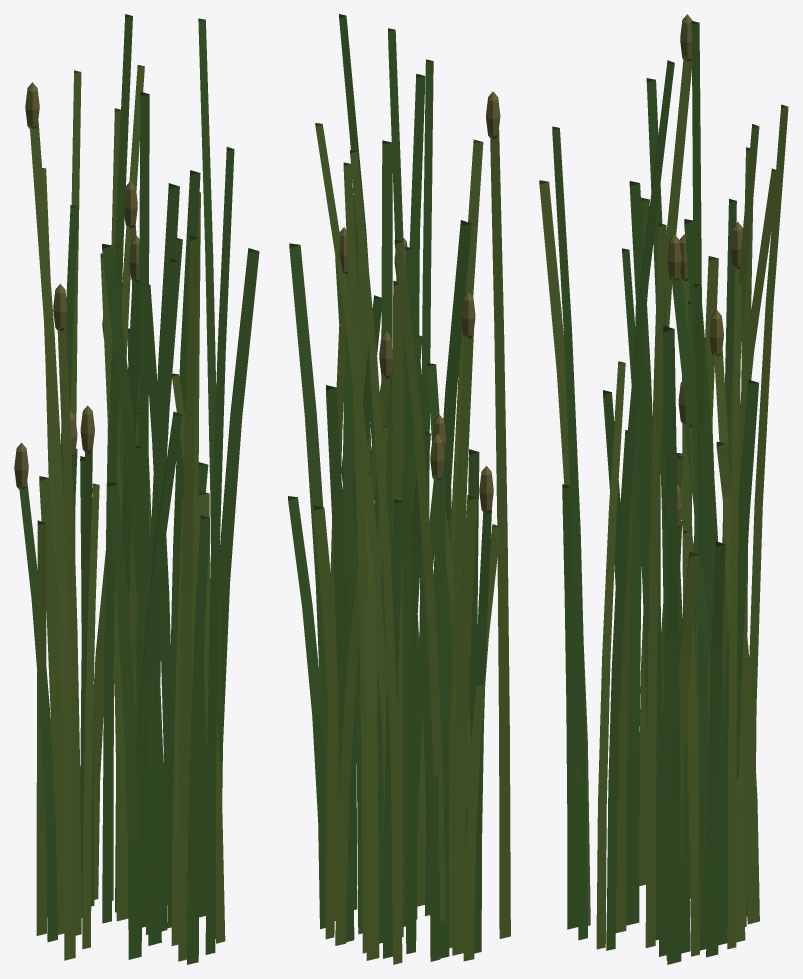
Rendered from wet_sedge_v3.glb.
3 views of the same model, side by side, from view 1: azimuth 30°, elevation 25°; view 2: azimuth 150°, elevation 25°; view 3: azimuth 270°, elevation 25° (orthographic).
Parts seen in each view (by area): view 1: wet_sedge_v3; view 2: wet_sedge_v3; view 3: wet_sedge_v3.
Part boxes in pixels (x1,y1,x2,y2): wet_sedge_v3: (14,14,259,964); wet_sedge_v3: (288,14,510,964); wet_sedge_v3: (539,14,788,964).
Bounding box in the file's own units: 0.2361 × 0.9075 × 0.2268.
